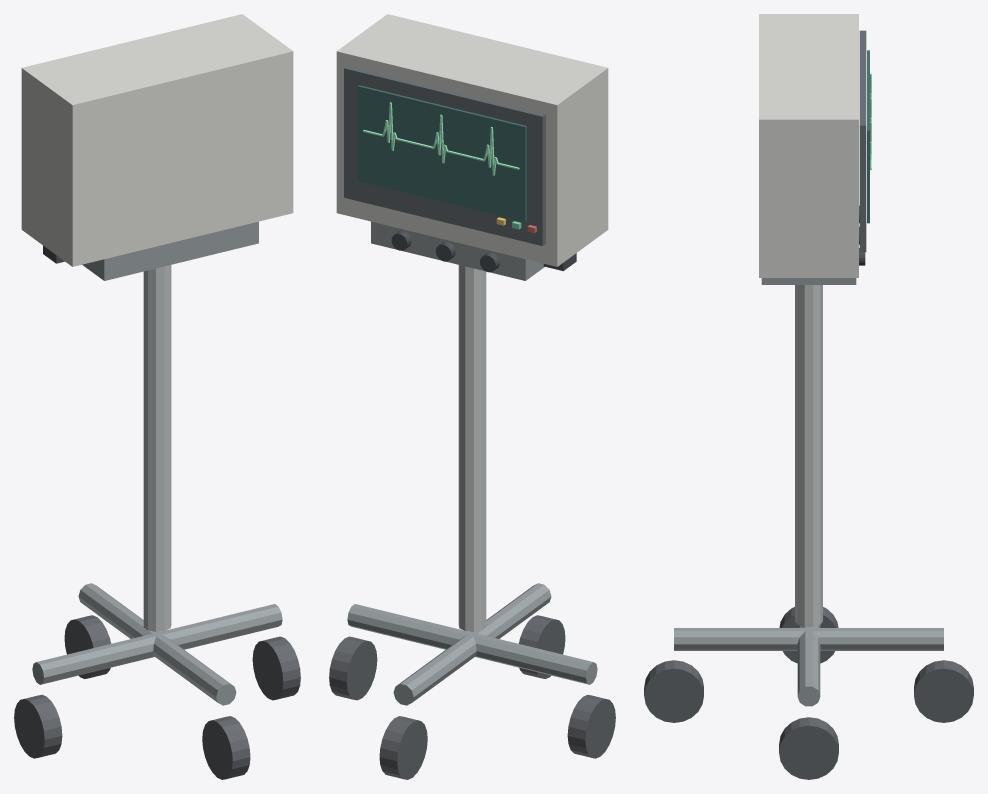
The model's file is ecg.fbx.
The picture shows the model from 3 angles, left to right: view 1: azimuth 30°, elevation 25°; view 2: azimuth 150°, elevation 25°; view 3: azimuth 270°, elevation 25°; orthographic projection. The views are drawn at different scales.
Visible parts, largest first — view 1: ecg; view 2: ecg; view 3: ecg.
Part boxes in pixels (x1,y1,x2,y2): ecg: (14,14,300,779); ecg: (329,14,615,779); ecg: (644,14,973,779).
Size of the model in its own units: 0.58 by 1.44 by 0.66.
